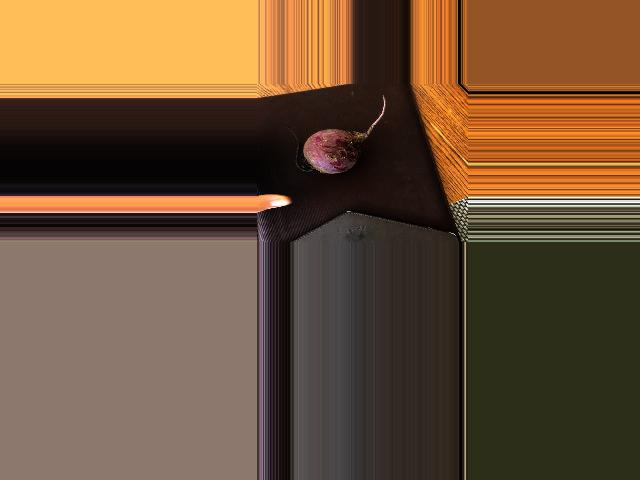beet: (288, 96, 386, 174)
